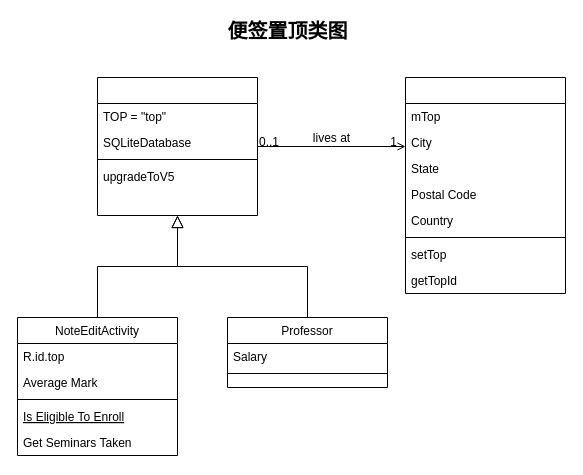
The diagram is 583 pixels wide and 475 high, and some of its shapes have lost their labels. Each missing label, with the box of its shape:
Notes: (96, 76, 258, 216)
WorkingNote: (404, 76, 566, 294)
